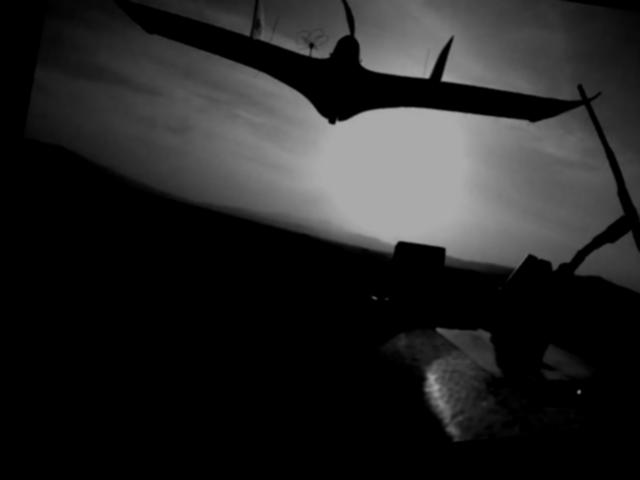hedef: (69, 0, 620, 217)
